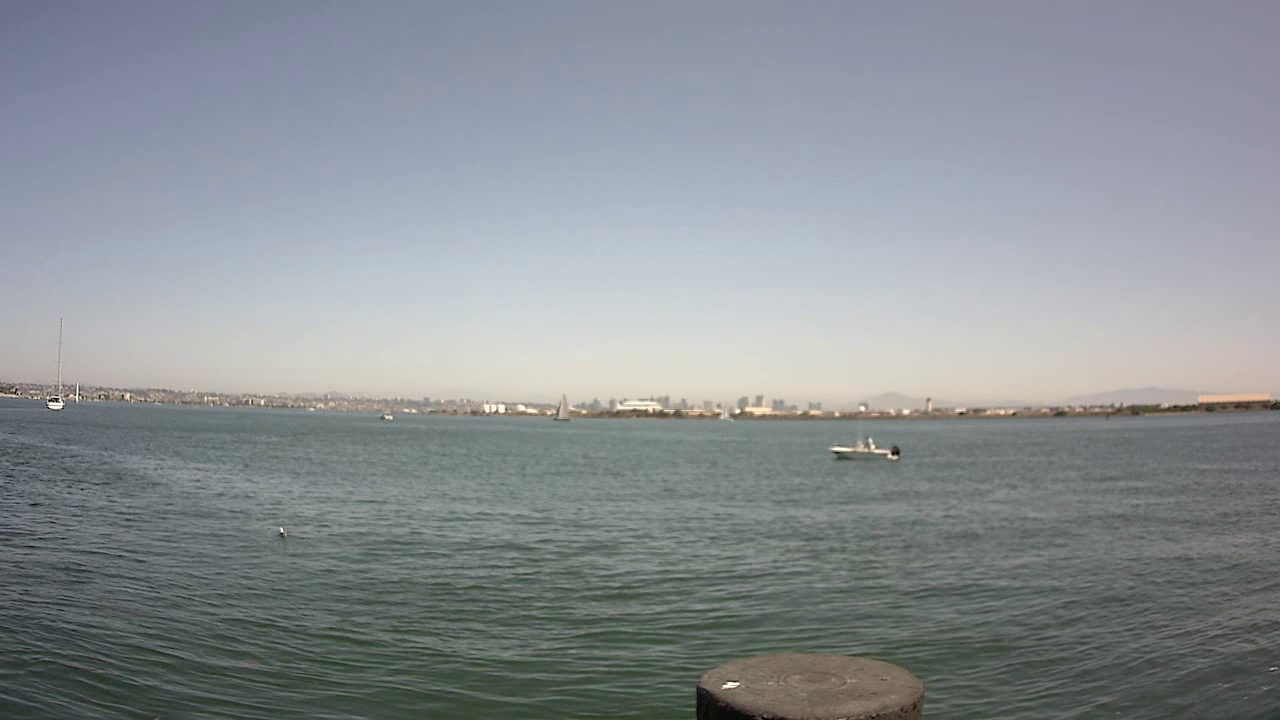target: (824, 419, 914, 472)
